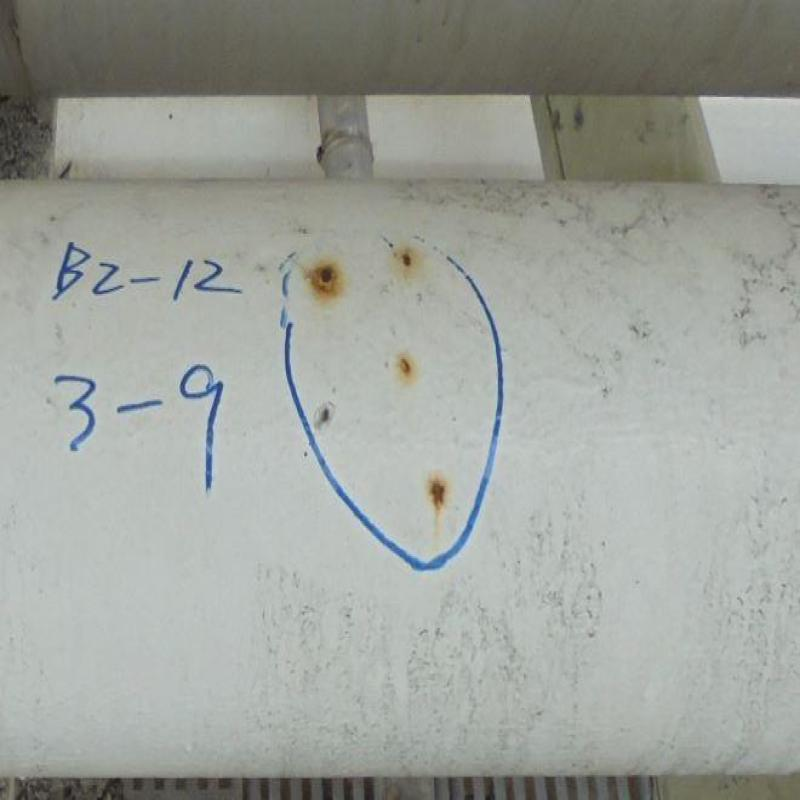corrosion: (308, 258, 341, 294), (435, 472, 450, 511), (404, 246, 419, 277)
